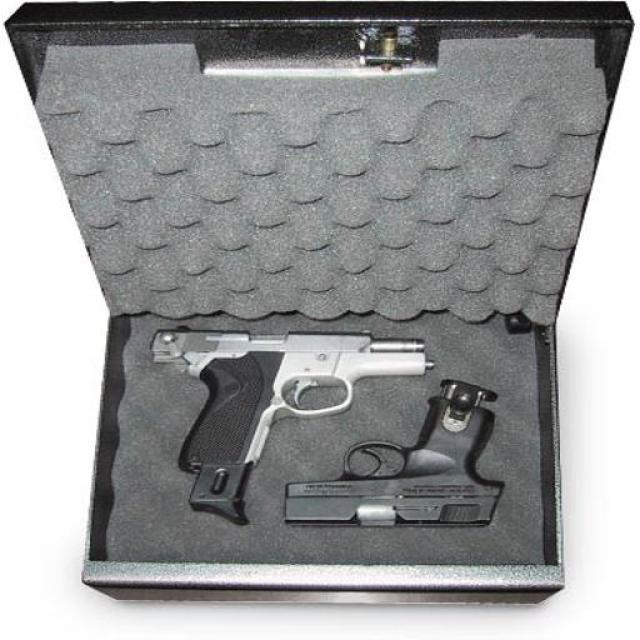pistol: (154, 326, 436, 471), (279, 397, 524, 526)
